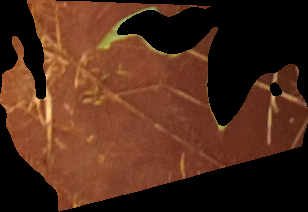soil: (2, 1, 306, 212)
